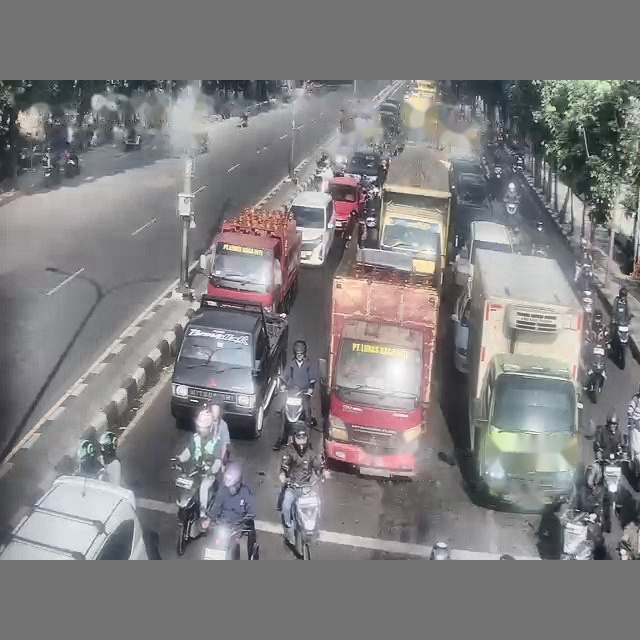Mobil: (0, 476, 148, 559), (451, 282, 470, 374), (454, 173, 488, 208)
Motor: (171, 458, 207, 556), (287, 476, 320, 559), (599, 449, 627, 532), (280, 379, 316, 441), (560, 509, 601, 559), (204, 521, 251, 560), (586, 343, 606, 403), (610, 323, 628, 369), (42, 153, 60, 187), (63, 152, 79, 177), (124, 134, 140, 151), (238, 113, 248, 127)
Truk: (468, 250, 583, 508), (320, 235, 438, 477), (200, 208, 301, 312), (379, 144, 450, 282)
